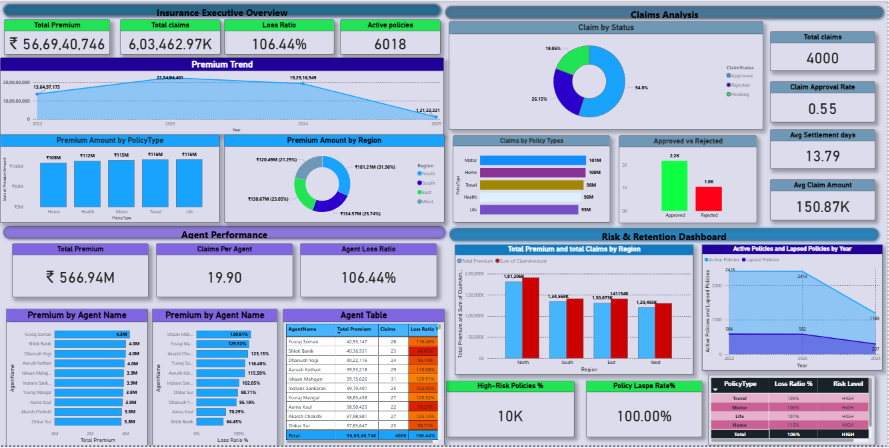

What the dashboard file says about the page in this screenshot:
{"tool":"powerbi","page":{"name":"Page 1","canvas":[2400,1200],"ordinal":5},"visuals":[{"type":"card","title":"Total Premium","fields":{"Values":["Sum(Fact_Premiums.PremiumAmount)"]},"box":[11.6,50.9,286.3,93.6],"z":0,"group":"g2"},{"type":"card","title":"Claim Approval Rate","fields":{"Values":["Agent.Claim Approval Rate %"]},"box":[2077.9,217.9,283.8,109.4],"z":0,"group":"g3"},{"type":"card","title":"High-Risk Policies %","fields":{"Values":["Agent.High Risk Policies"]},"box":[1204.4,1026.7,345.8,152.9],"z":0,"group":"g1"},{"type":"lineChart","title":"Premium Trend","fields":{"Y":["select","Agent.Total Premium"],"Category":["Premiums.Date.Variation.Date Hierarchy.Year","Premiums.Date.Variation.Date Hierarchy.Month"]},"box":[0,153.7,1198.2,207.9],"z":1000,"group":"g2"},{"type":"card","title":"Total Premium","fields":{"Values":["Sum(Fact_Premiums.PremiumAmount)"]},"box":[32.2,656.6,368.4,144.4],"z":1000,"group":"g3"},{"type":"pivotTable","title":"Premium Amount by PolicyType","fields":{"Rows":["Policy.PolicyType"],"Values":["Agent.Loss Ratio %","Claims.Risk Level"]},"box":[1911.3,1009,450.8,190.2],"z":1000,"group":"g1"},{"type":"card","title":"Total claims","fields":{"Values":["Sum(Claims.ClaimAmount)"]},"box":[324.2,50.8,270.8,93.6],"z":2000,"group":"g2"},{"type":"card","title":"Total claims","fields":{"Values":["Claims.Total Claims"]},"box":[2077.9,83.6,283.8,105.2],"z":2000,"group":"g3"},{"type":"actionButton","box":[1203.8,604.7,1177.1,52.6],"z":2000,"group":"g1"},{"type":"card","title":"Loss Ratio","fields":{"Values":["Agent.Agent Loss Ratio"]},"box":[605.6,51,297.2,93.6],"z":3000,"group":"g2"},{"type":"card","title":"Claims Per Agent","fields":{"Values":["Agent.Claims per Agent"]},"box":[420.8,657,369.4,144.2],"z":3000,"group":"g3"},{"type":"clusteredColumnChart","title":"Total Premium and total Claims by Region","fields":{"Y":["Agent.Total Premium","Sum(Claims.ClaimAmount)"],"Category":["Agent.Region"]},"box":[1228.7,657.6,643.1,350.5],"z":3000,"group":"g1"},{"type":"card","title":"Active policies","fields":{"Values":["Policies.Active Policies"]},"box":[918.8,50.9,270.8,93.6],"z":4000,"group":"g2"},{"type":"card","title":"Avg Settlement days","fields":{"Values":["Avg(Claims.SettlementDays)"]},"box":[2077.9,349.4,283.8,105.2],"z":4000,"group":"g3"},{"type":"card","title":"Policy Laspe Rate%","fields":{"Values":["Agent.Lapsed Policies"]},"box":[1580.5,1026.7,313.5,152.9],"z":4000,"group":"g1"},{"type":"donutChart","title":" Premium Amount by Region","fields":{"Y":["Sum(Premiums.PremiumAmount)"],"Category":["Agent.Region"]},"box":[604.5,361.5,594.4,237.4],"z":5000,"group":"g2"},{"type":"card","title":"Agent Loss Ratio","fields":{"Values":["Agent.Agent Loss Ratio"]},"box":[809.5,657,369.4,144.2],"z":5000,"group":"g3"},{"type":"lineChart","fields":{"Y":["Policies.Active Policies","Agent.Lapsed Policies"],"Category":["Policies.StartDate.Variation.Date Hierarchy.Year"]},"box":[1894.5,658.2,487.5,339.5],"z":5000,"group":"g1"},{"type":"actionButton","box":[1192,5.4,1201,51.7],"z":6000,"group":"g3"},{"type":"clusteredColumnChart","title":"Premium Amount by PolicyType","fields":{"Y":["Sum(Premiums.PremiumAmount)"],"Category":["Policy.PolicyType"]},"box":[0.7,361.5,592.9,237.4],"z":6000,"group":"g2"},{"type":"actionButton","box":[0.4,0,1198.7,50.7],"z":7000,"group":"g2"},{"type":"group","id":"g1","title":"Group 1","box":[1203.8,604.7,1175.4,596.2],"z":7000,"group":"g3"},{"type":"actionButton","box":[0,598.4,1211.1,52.1],"z":8000,"group":"g3"},{"type":"donutChart","title":" Claim by Status","fields":{"Y":["CountNonNull(Claims.ClaimID)"],"Category":["Claims.ClaimStatus"]},"box":[1210.9,57.3,848.2,292.1],"z":9000,"group":"g3"},{"type":"clusteredBarChart","title":" Premium by Agent Name","fields":{"Category":["Agent.AgentName"],"Y":["Agent.Total Premium"]},"box":[16.6,830.4,382.9,370.9],"z":10000,"group":"g3"},{"type":"clusteredBarChart","title":"Claims by Policy Types","fields":{"Category":["Policy.PolicyType"],"Y":["Sum(Claims.ClaimAmount)"]},"box":[1222.9,364.1,424,234.3],"z":11000,"group":"g3"},{"type":"clusteredBarChart","title":" Premium by Agent Name","fields":{"Y":["Agent.Loss Ratio %"],"Category":["Agent.AgentName"]},"box":[411.1,830.4,338.5,370.9],"z":12000,"group":"g3"},{"type":"card","title":"Avg Claim Amount","fields":{"Values":["Avg(Claims.ClaimAmount)"]},"box":[2077.9,482.3,283.8,109.4],"z":13000,"group":"g3"},{"type":"tableEx","title":" Agent Table ","fields":{"Values":["Agent.AgentName","Agent.Total Premium","Claims.Total Claims Count","Agent.Loss Ratio %"]},"box":[763.1,830.4,435.2,370.9],"z":14000,"group":"g3"},{"type":"clusteredColumnChart","title":"Approved vs Rejected","fields":{"Category":["Claims.ClaimStatus"],"Y":["CountNonNull(Claims.ClaimStatus)"]},"box":[1669.4,363.4,371.9,235.6],"z":15000,"group":"g3"},{"type":"group","id":"g2","title":"Group 1","box":[0,0,1198.2,599.1],"z":16000,"group":"g3"},{"type":"group","id":"g3","title":"Group 2","box":[0,0,2393.4,1201],"z":16001}]}

Visuals, with their boxes in screenshot pixels (x1, y1, x2, y2), scaled from the page's 2400x1200 canvas onto the 889x448 screenshot:
"Total Premium" card: (4, 19, 110, 54)
"Claim Approval Rate" card: (770, 81, 875, 122)
"High-Risk Policies %" card: (446, 383, 574, 440)
"Premium Trend" lineChart: (0, 57, 444, 135)
"Total Premium" card: (12, 245, 148, 299)
"Premium Amount by PolicyType" pivotTable: (708, 377, 875, 447)
"Total claims" card: (120, 19, 220, 54)
"Total claims" card: (770, 31, 875, 70)
actionButton: (446, 226, 882, 245)
"Loss Ratio" card: (224, 19, 334, 54)
"Claims Per Agent" card: (156, 245, 293, 299)
"Total Premium and total Claims by Region" clusteredColumnChart: (455, 246, 693, 376)
"Active policies" card: (340, 19, 441, 54)
"Avg Settlement days" card: (770, 130, 875, 170)
"Policy Laspe Rate%" card: (585, 383, 702, 440)
" Premium Amount by Region" donutChart: (224, 135, 444, 224)
"Agent Loss Ratio" card: (300, 245, 437, 299)
lineChart - Policies.Active Policies x Agent.Lapsed Policies: (702, 246, 882, 372)
actionButton: (442, 2, 886, 21)
"Premium Amount by PolicyType" clusteredColumnChart: (0, 135, 220, 224)
actionButton: (0, 0, 444, 19)
"Group 1" group: (446, 226, 881, 447)
actionButton: (0, 223, 449, 243)
" Claim by Status" donutChart: (449, 21, 763, 130)
" Premium by Agent Name" clusteredBarChart: (6, 310, 148, 447)
"Claims by Policy Types" clusteredBarChart: (453, 136, 610, 223)
" Premium by Agent Name" clusteredBarChart: (152, 310, 278, 447)
"Avg Claim Amount" card: (770, 180, 875, 221)
" Agent Table " tableEx: (283, 310, 444, 447)
"Approved vs Rejected" clusteredColumnChart: (618, 136, 756, 224)
"Group 1" group: (0, 0, 444, 224)
"Group 2" group: (0, 0, 887, 447)
